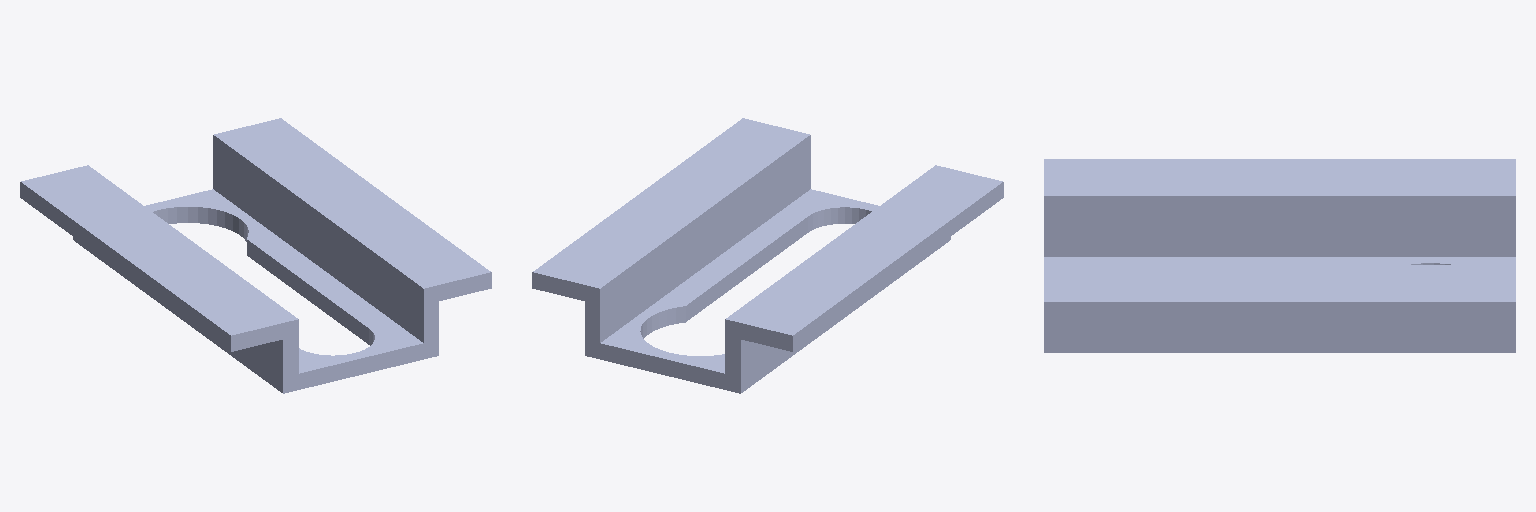
URDF robot description (slotmodel1):
<?xml version="1.0" encoding="utf-8"?>
<!-- This URDF was automatically created by SolidWorks to URDF Exporter! Originally created by [author] ([email redacted]) 
     Commit Version: 1.6.0-1-g15f4949  Build Version: 1.6.7594.29634
     For more information, please see http://wiki.ros.org/sw_urdf_exporter -->
<robot
  name="slotmodel1">
  <link concave="yes" name="baseLink">
    <inertial>
      <origin
        xyz="0 0.025203 0.0073269"
        rpy="0 0 0" />
      <mass
        value="0.011893" />
      <inertia
        ixx="5.2812E-06"
        ixy="-3.1287E-23"
        ixz="6.1651E-23"
        iyy="3.1369E-06"
        iyz="-2.6355E-08"
        izz="7.9493E-06" />
    </inertial>
    <visual>
      <origin
        xyz="0 0 0"
        rpy="0 0 0" />
      <geometry>
        <mesh
          filename="package://slotmodel1/meshes/base_link.stl.obj" />
      </geometry>
      <material
        name="">
        <color
          rgba="0.79216 0.81961 0.93333 1" />
      </material>
    </visual>
    <collision concave="yes" >
      <origin
        xyz="0 0 0"
        rpy="0 0 0" />
      <geometry>
        <mesh
          filename="package://slotmodel1/meshes/base_link.stl.obj" />
      </geometry>
      <contact_coefficients mu="0" kp="1000" kd="1.0"/>
    </collision>
  </link>
</robot>

--- What the picture shows (computed from the rendered views, not written in the file) ---
3 views of the same robot in one strip: view 1: azimuth 30°, elevation 25°; view 2: azimuth 150°, elevation 25°; view 3: azimuth 270°, elevation 25° (orthographic).
Model slotmodel1 with 1 links and 0 joints (none), rooted at baseLink, posed all joints at 0.
Links seen in each view (by area): view 1: baseLink; view 2: baseLink; view 3: baseLink.
Boxes of the visible links, bbox=[...] form: baseLink: bbox=[20, 118, 491, 393]; baseLink: bbox=[532, 118, 1003, 393]; baseLink: bbox=[1044, 159, 1515, 352].
Bounding box of the posed robot: 0.05 × 0.07 × 0.013 m (x, y, z).
Meshes: 1 distinct files referenced, 1 mesh visuals loaded (1 OBJ).